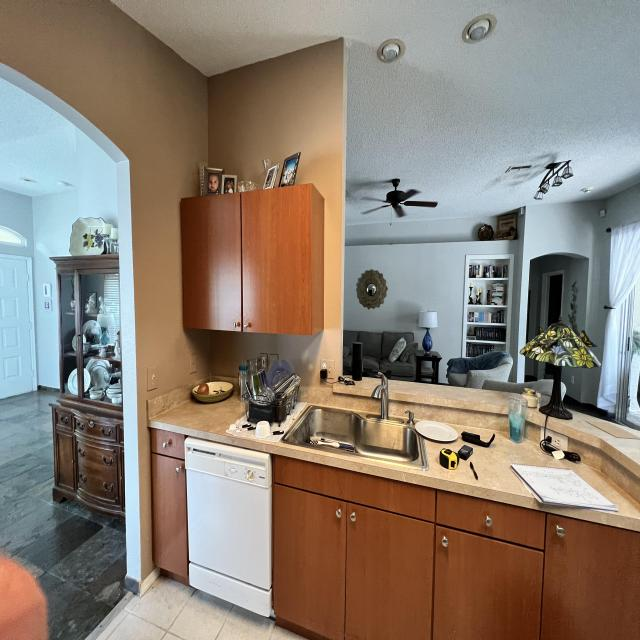Appliance_Dishwasher: (183, 437, 272, 619)
Appliance_Sink: (285, 372, 427, 470)
Cabinet_Flat: (270, 457, 640, 640), (180, 184, 321, 337), (150, 430, 187, 585)
Countertop_Laminate: (151, 403, 640, 532), (525, 408, 640, 478), (388, 380, 508, 414), (332, 377, 380, 397)
